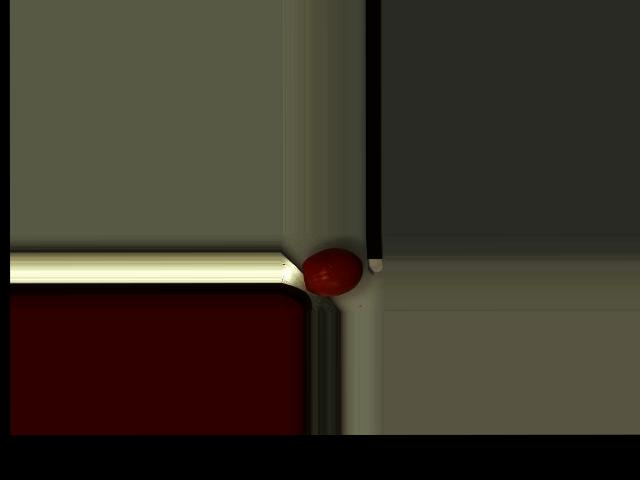tomato: (301, 247, 362, 296)
